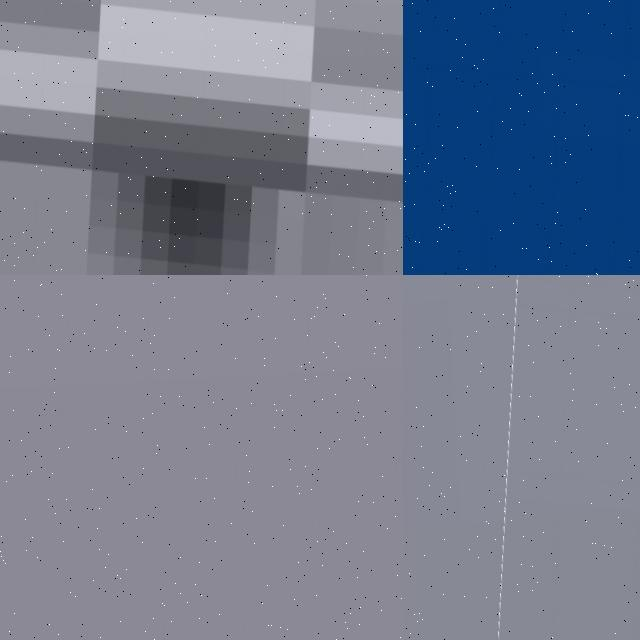0: (0, 0, 403, 275), (478, 275, 640, 640)
drone: (403, 0, 640, 275)
